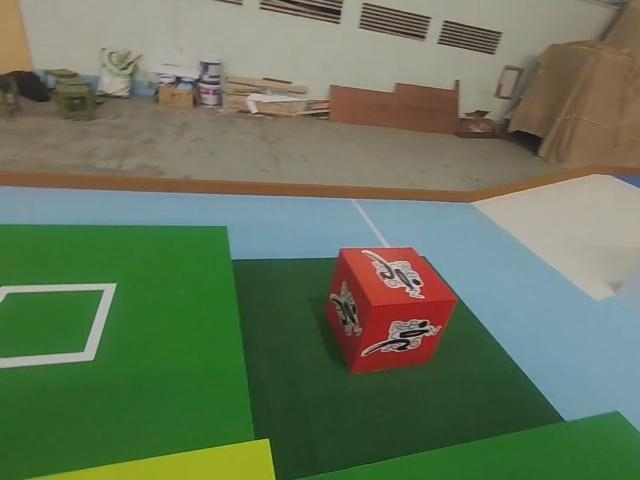R1: (319, 245, 460, 376)
